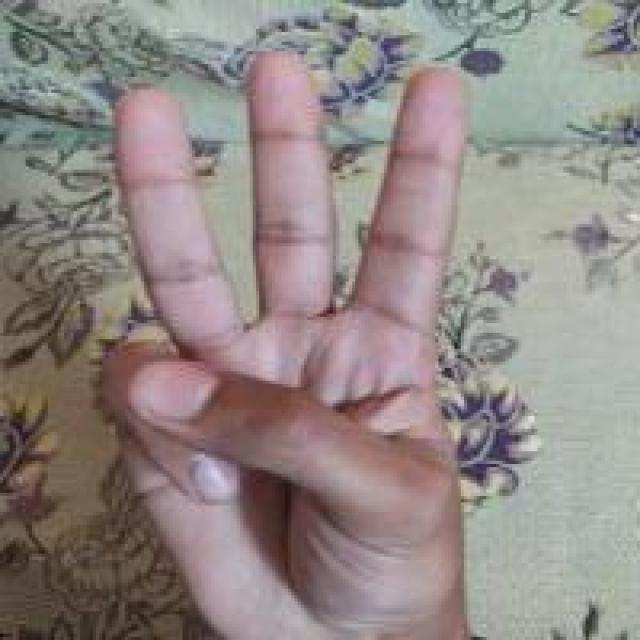W: (81, 45, 468, 640)
